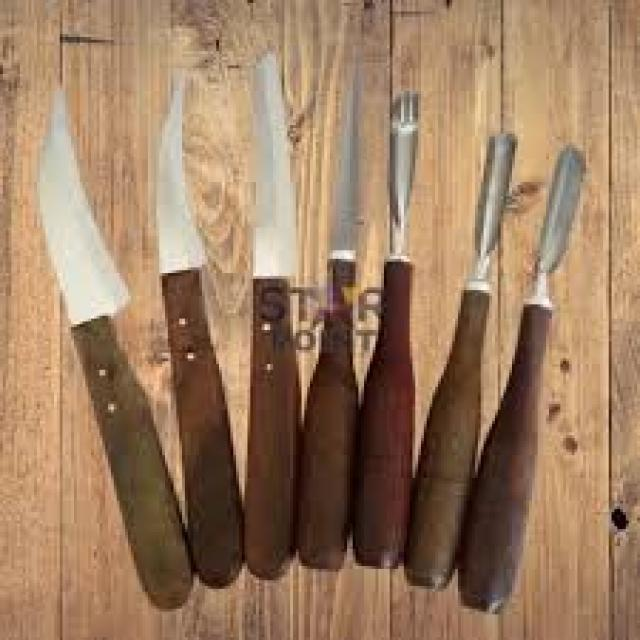Knife: (23, 61, 235, 618)
